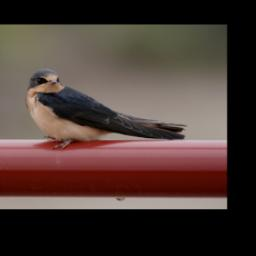Swallow: (25, 66, 189, 154)
